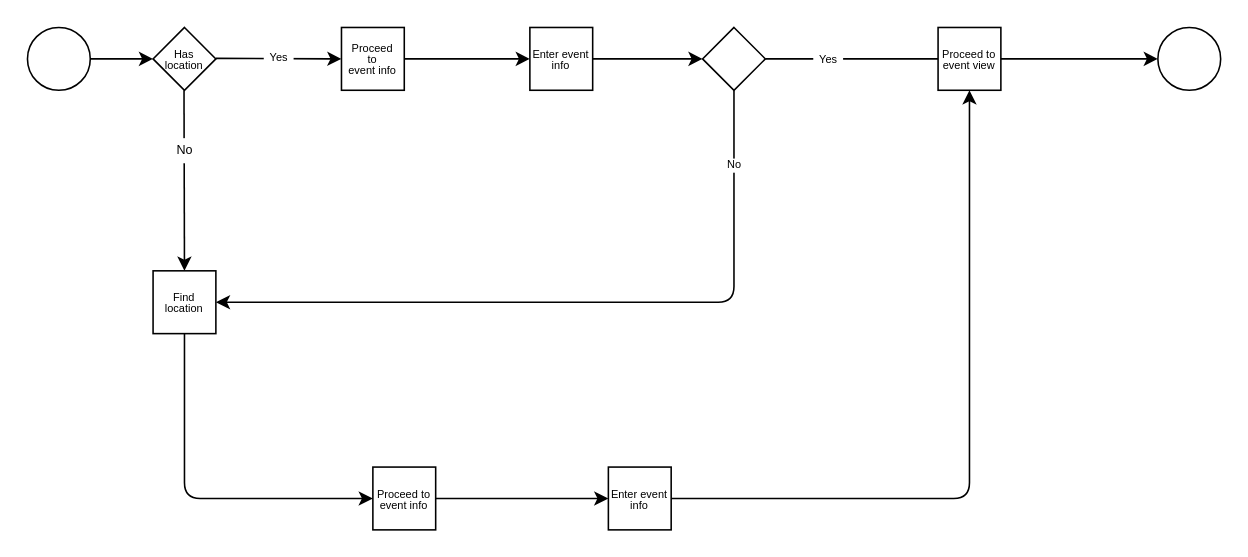
Image size: 1248x557. Some labels were removed from this diagram. Each missing label, with the box of its shape:
Finish: (1156, 26, 1221, 90)
Is valid location: (701, 26, 765, 90)
Start: (26, 26, 90, 90)
